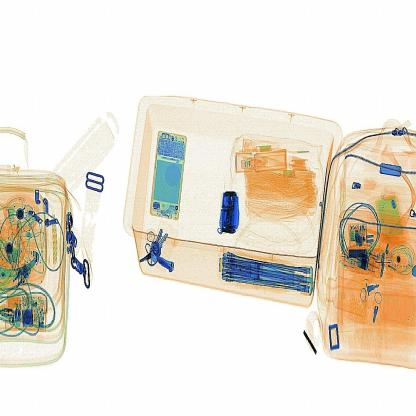scissors: (214, 190, 244, 234)
